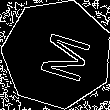M_W: (26, 25, 88, 84)
